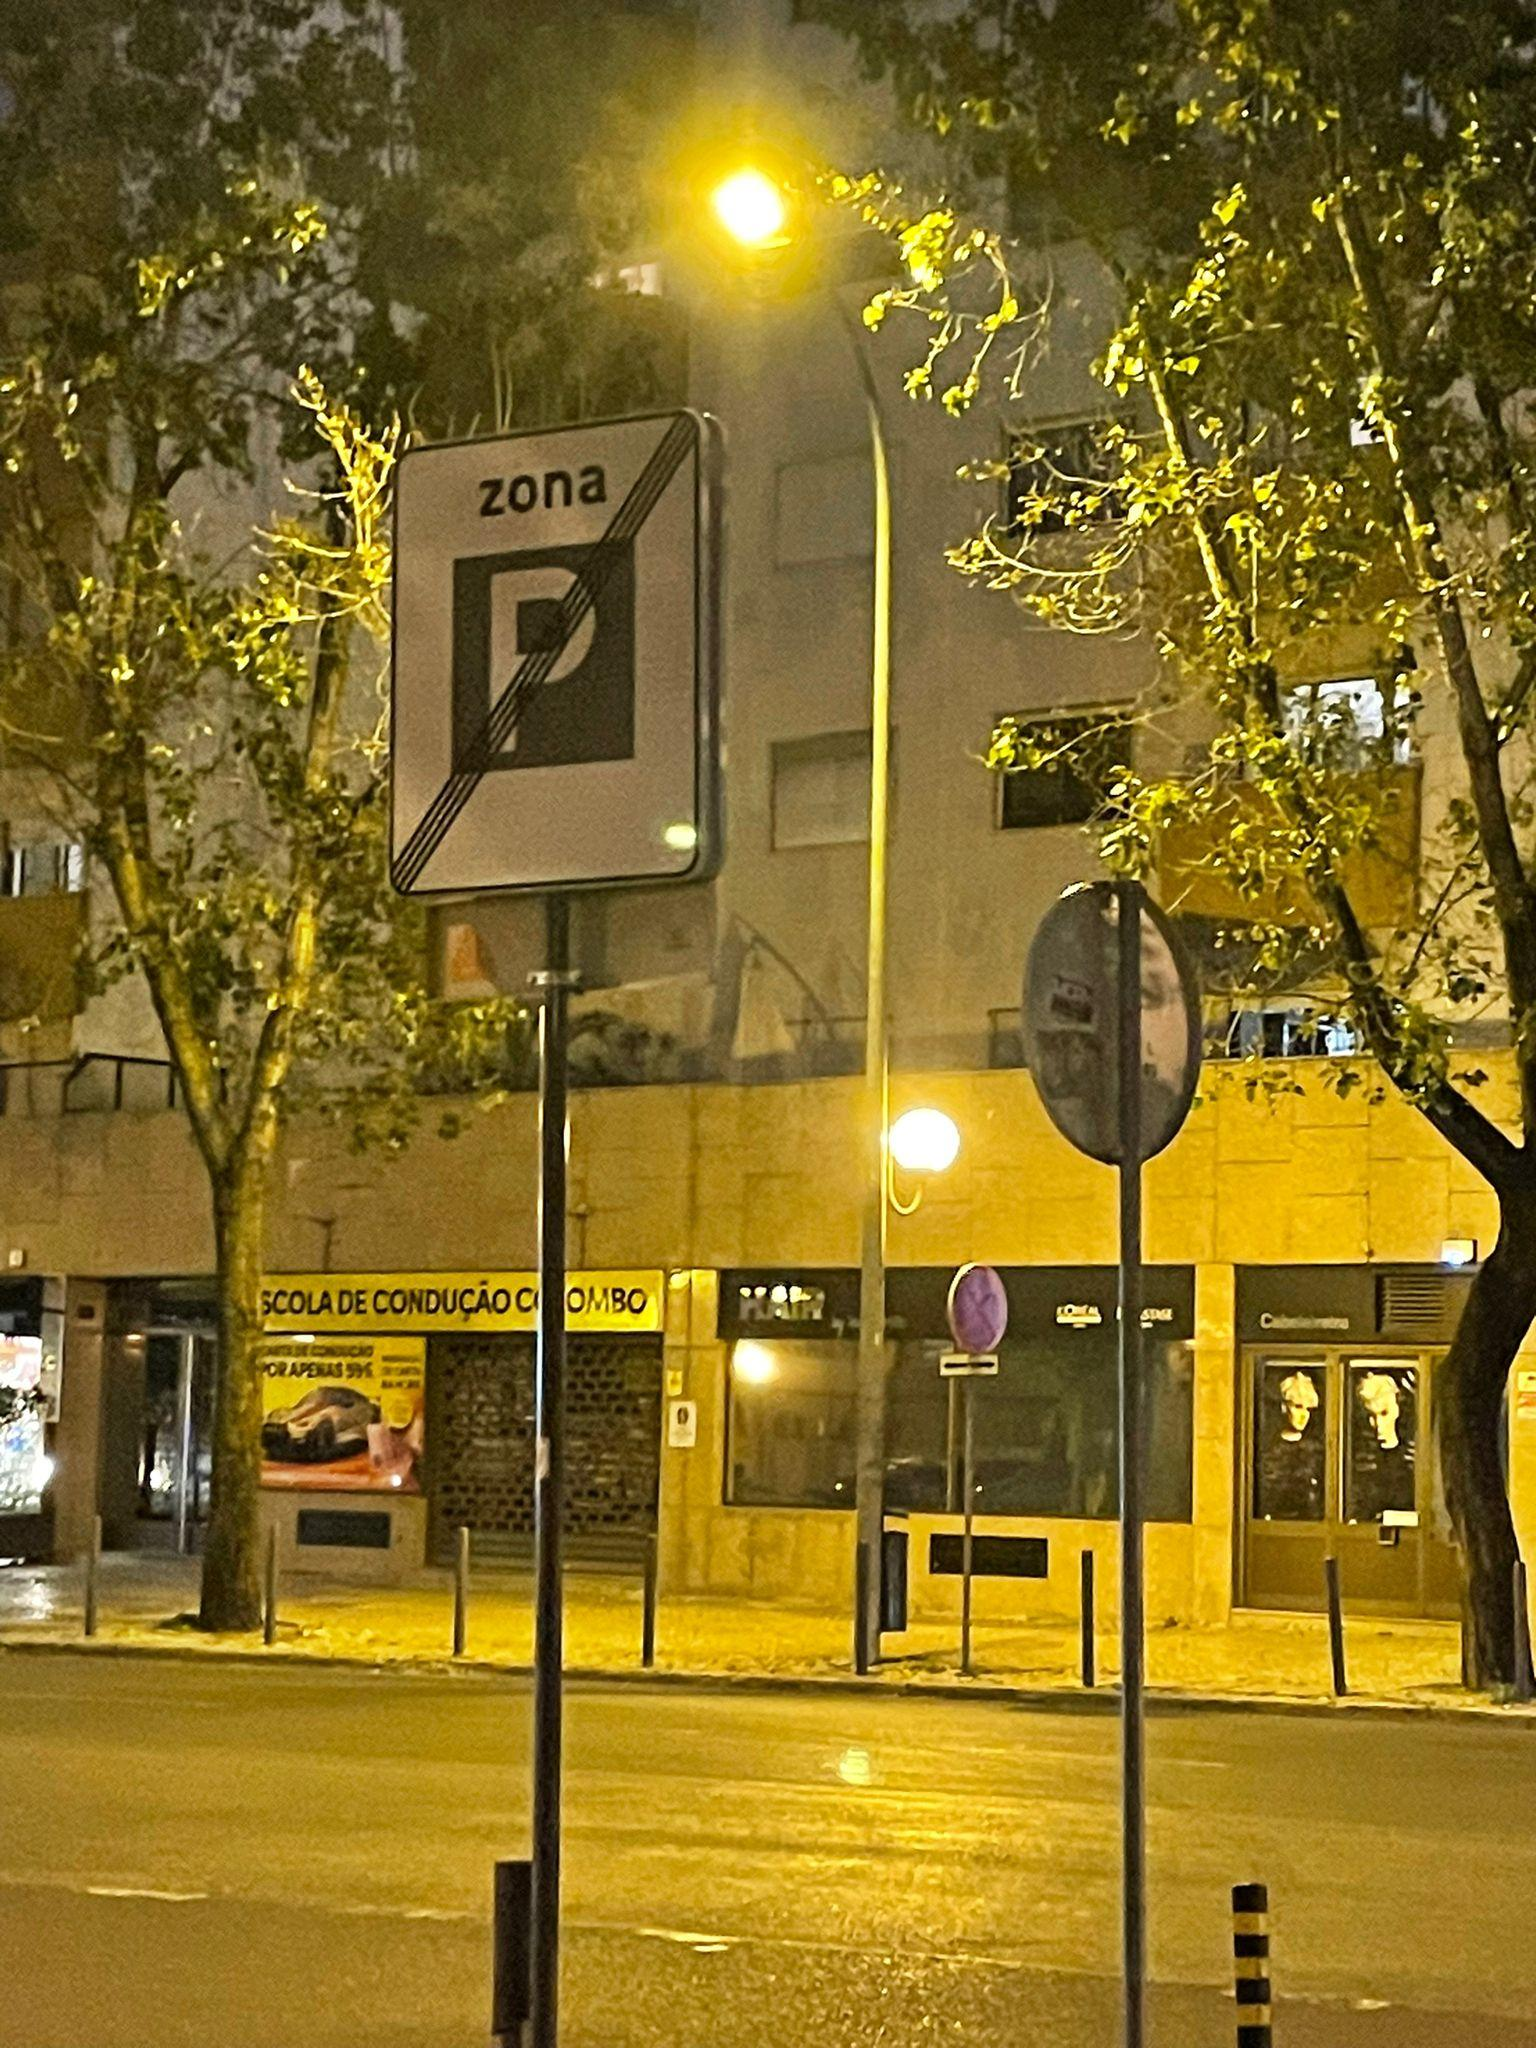fim de zona de estacionamento autorizado: (382, 413, 736, 916)
